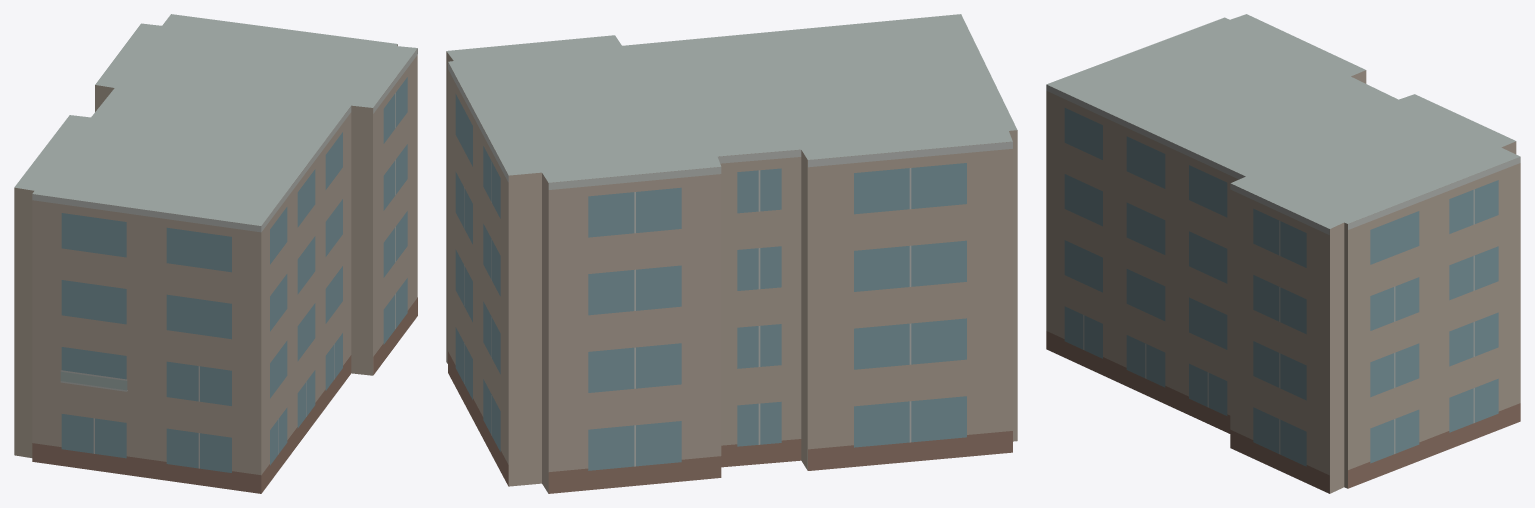
File: survey-upis-32805059.glb
3 views of the same model, side by side, from view 1: azimuth 30°, elevation 25°; view 2: azimuth 150°, elevation 25°; view 3: azimuth 270°, elevation 25° (orthographic). The views are drawn at different scales.
Parts seen in each view (by area): view 1: survey-upis-32805059.tmp; view 2: survey-upis-32805059.tmp; view 3: survey-upis-32805059.tmp.
Boxes of the visible parts, x1,y1,x2,y2 form: survey-upis-32805059.tmp: [14, 14, 417, 493]; survey-upis-32805059.tmp: [446, 14, 1017, 493]; survey-upis-32805059.tmp: [1046, 14, 1520, 493].
Bounding box in the file's own units: 18.13 × 10.4 × 16.89.
